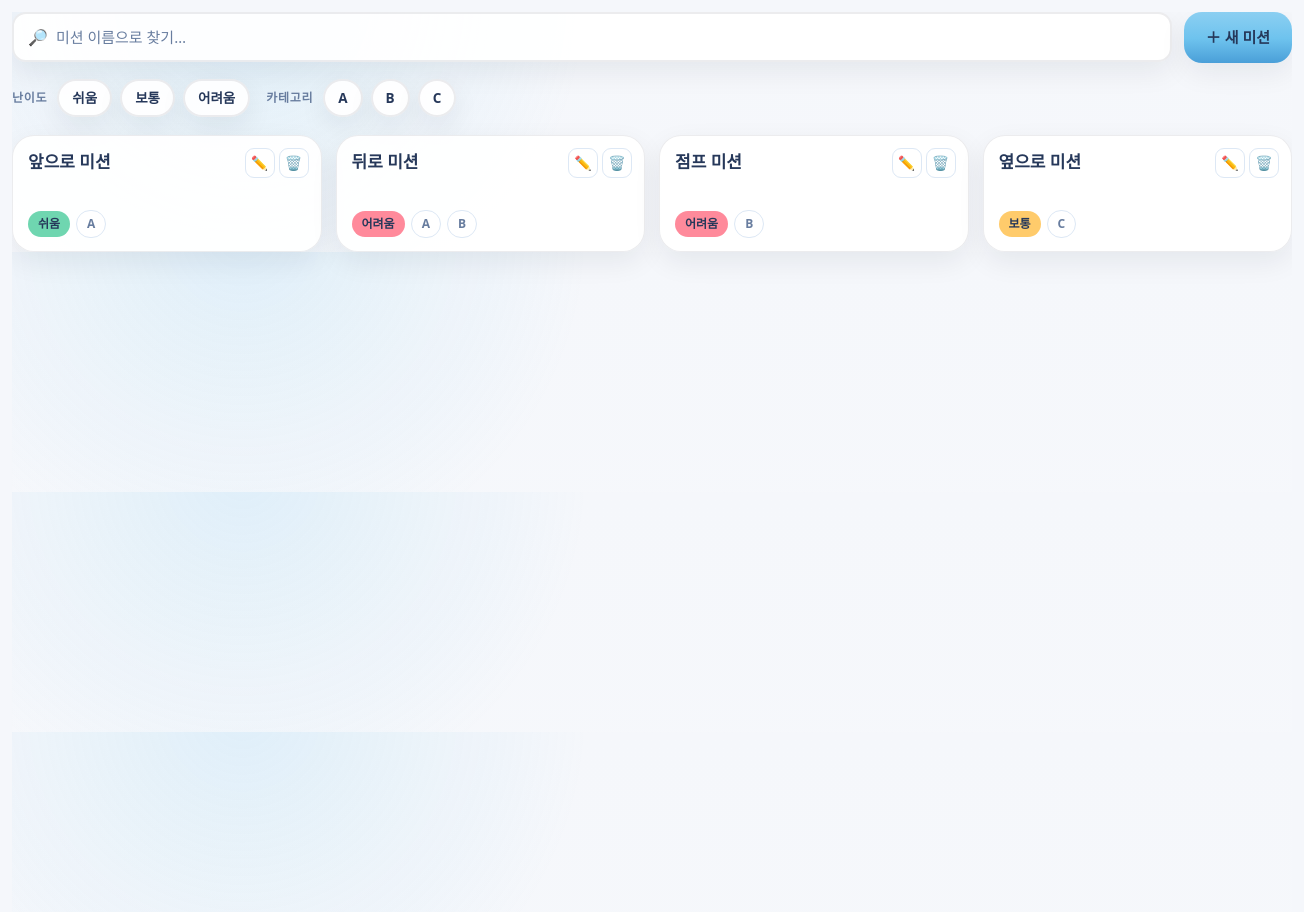
it: MissionTab (search + difficulty/category filter + delete) › shows only hard missions when the 어려움 difficulty chip is active (OR within difficulty)
The width and height of the screenshot is (1304, 912).
Click the button "어려움" at x=217, y=98, box [183,78,250,117]
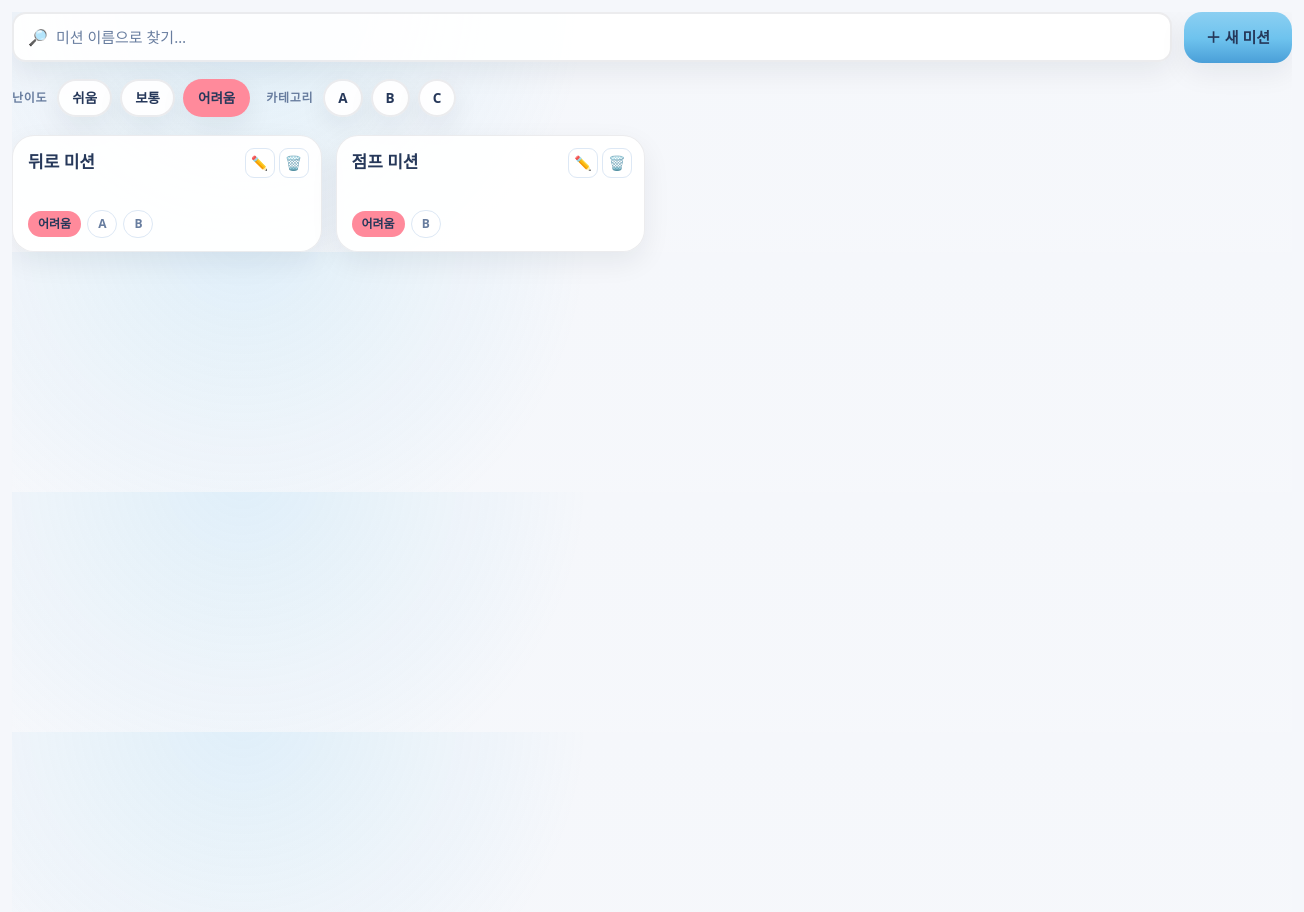
Check: the text "뒤로 미션" is shown, box [28,150,95,173]
Check: the text "앞으로 미션" is gone
Check: the text "옆으로 미션" is gone
